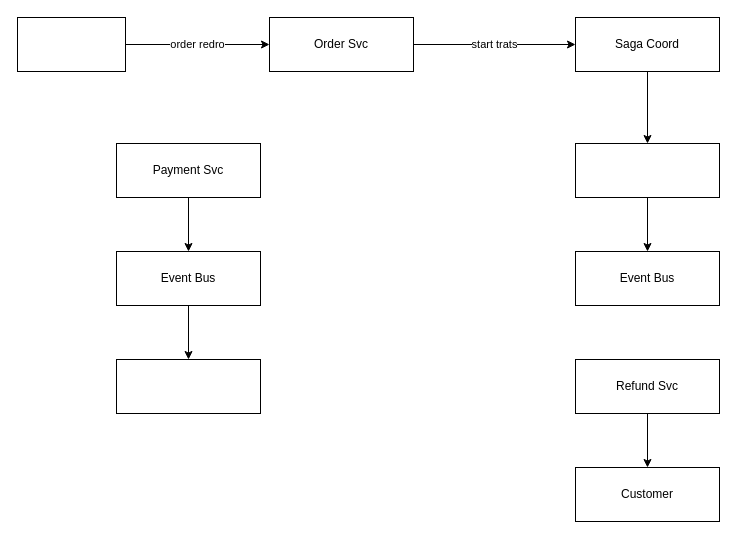
The diagram is 737 pixels wide and 539 high, and some of its shapes have lost their labels. The shapes that lost their labels are listed below. From the top down, each one's centre as x and y in pixels, then its label:
point (71, 44): Client
point (647, 170): Inventory
point (188, 386): Compensate
